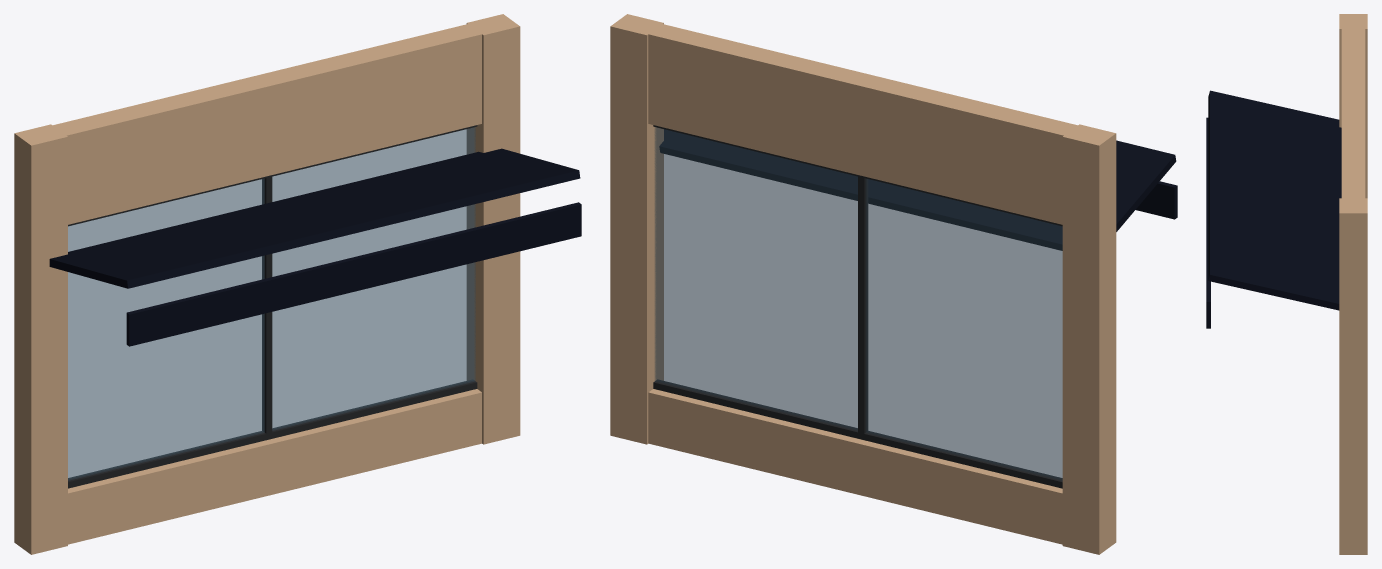
Rendered from KIT_Storefront_4m_Warm_Navy.glb.
3 views of the same model, side by side, from view 1: azimuth 30°, elevation 25°; view 2: azimuth 150°, elevation 25°; view 3: azimuth 270°, elevation 25° (orthographic). The views are drawn at different scales.
Parts seen in each view (by area): view 1: KIT_Storefront_4m_Warm_Navy; view 2: KIT_Storefront_4m_Warm_Navy; view 3: KIT_Storefront_4m_Warm_Navy.
Boxes of the visible parts, box(x1,y1,x2,y2) form: KIT_Storefront_4m_Warm_Navy: box(14, 14, 581, 554); KIT_Storefront_4m_Warm_Navy: box(610, 14, 1177, 554); KIT_Storefront_4m_Warm_Navy: box(1206, 14, 1367, 554).
Size of the model in its own units: 4 by 3.2 by 1.37.
